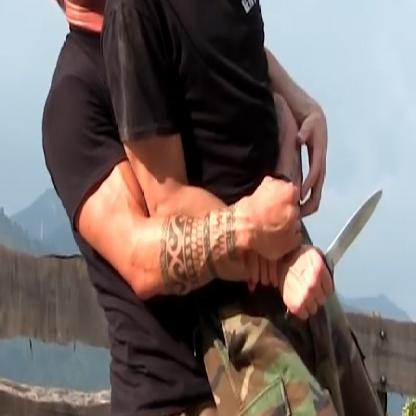knife: (278, 176, 389, 329)
